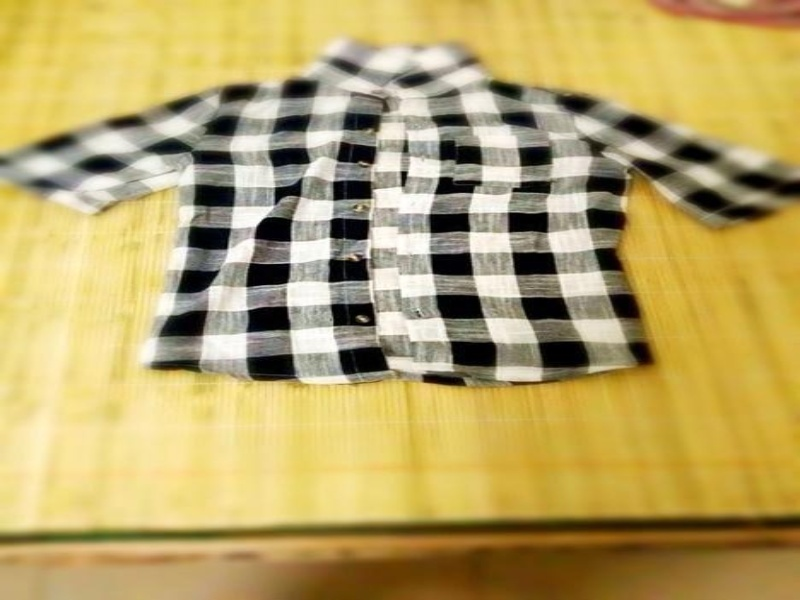short_sleeved_outwear: (0, 36, 798, 391)
